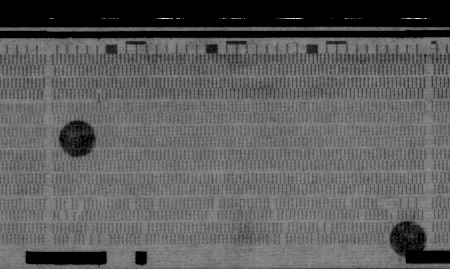Broken hole: (83, 222, 113, 247), (373, 197, 426, 210), (57, 197, 87, 219), (309, 222, 336, 246), (266, 198, 280, 223), (264, 232, 289, 246), (205, 198, 220, 221), (137, 222, 150, 247), (385, 208, 401, 222), (65, 232, 79, 247), (279, 221, 292, 234), (150, 197, 162, 211), (342, 196, 354, 209), (381, 232, 392, 245), (127, 198, 138, 210), (357, 209, 367, 222)
Oblique printing: (93, 89, 106, 105), (73, 210, 86, 225)
